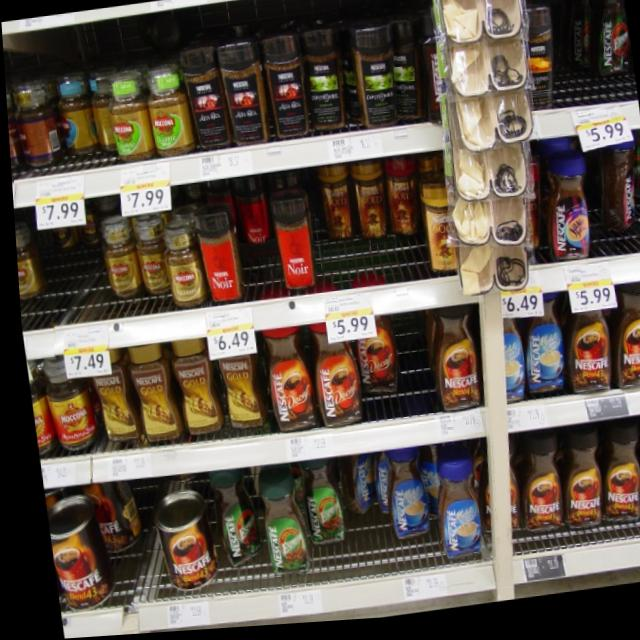q13: (500, 426, 564, 550), (422, 322, 487, 434), (553, 297, 607, 408), (554, 436, 603, 552), (602, 291, 640, 402), (593, 447, 636, 529), (637, 435, 640, 542)
q16: (301, 320, 358, 450), (254, 325, 312, 451), (348, 306, 394, 406)
